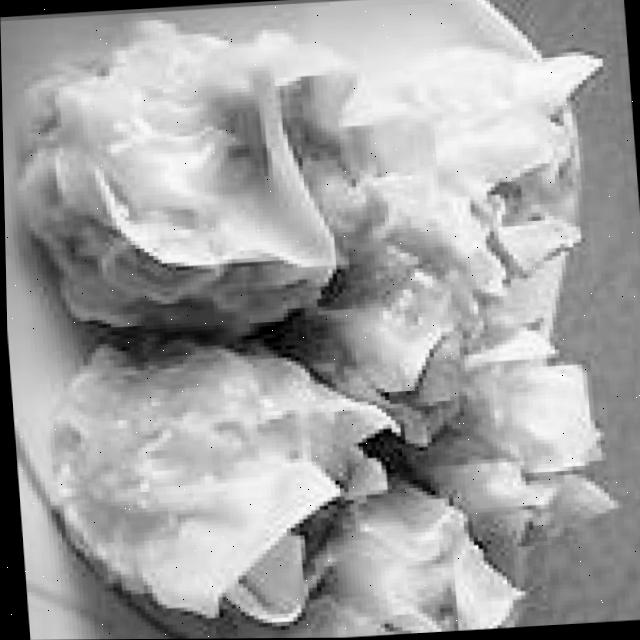带馅早点: (6, 0, 640, 640)
